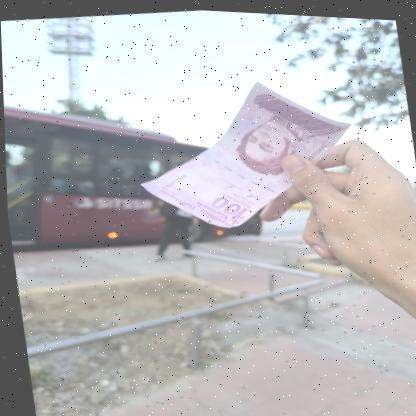one_hundred-front-vef: (125, 63, 365, 241)
